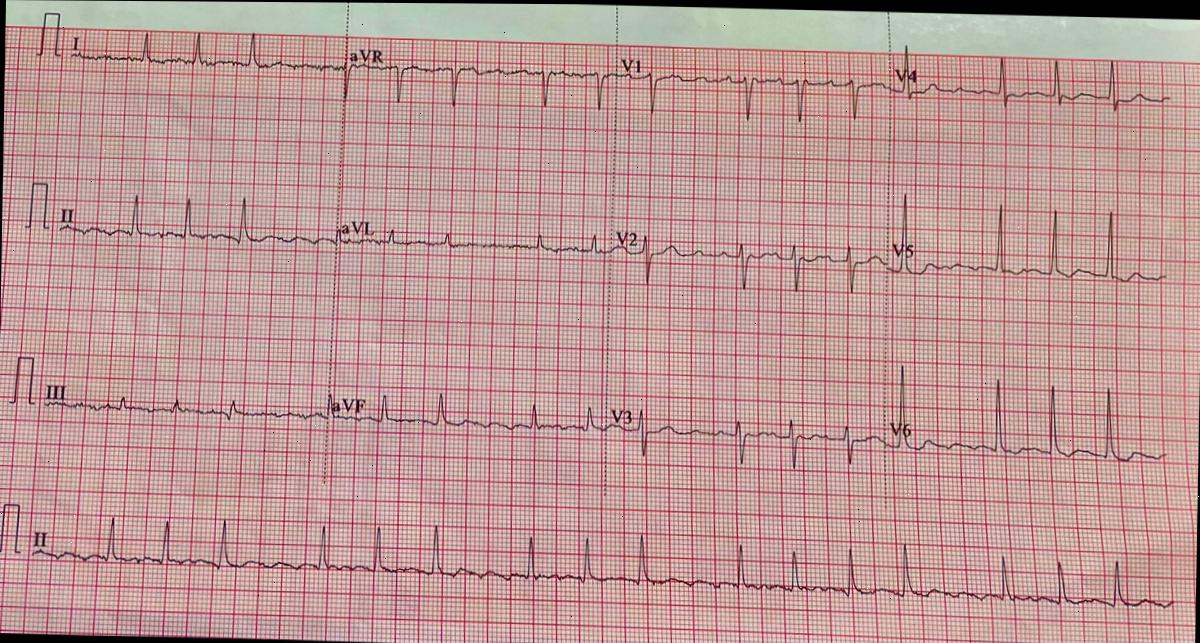Lead_I: (62, 7, 347, 109)
Lead_II: (53, 163, 338, 269)
Lead_III: (37, 354, 332, 448)
Lead_II_ext: (28, 487, 1184, 632)
Lead_V1: (617, 31, 887, 135)
Lead_V2: (608, 191, 879, 305)
Lead_V3: (606, 383, 884, 484)
Lead_V4: (885, 16, 1180, 133)
Lead_V5: (876, 166, 1176, 319)
Lead_V6: (879, 345, 1173, 494)
Lead_aVF: (316, 346, 610, 473)
Lead_aVL: (334, 179, 614, 282)
Lead_aVR: (340, 13, 620, 126)
